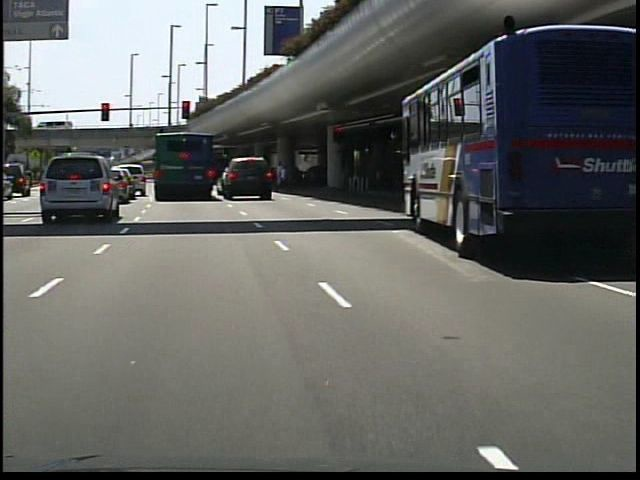person: (274, 158, 294, 195)
